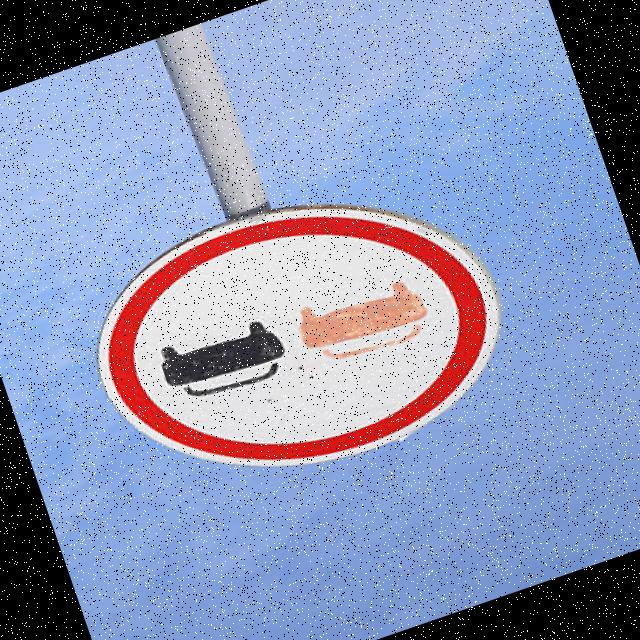no_passing: (32, 130, 530, 544)
